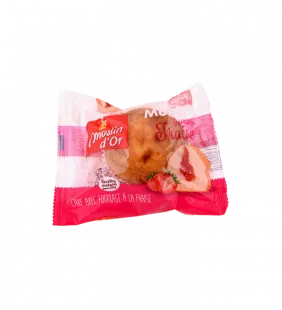MOULIN D'OR: (44, 75, 236, 235)
